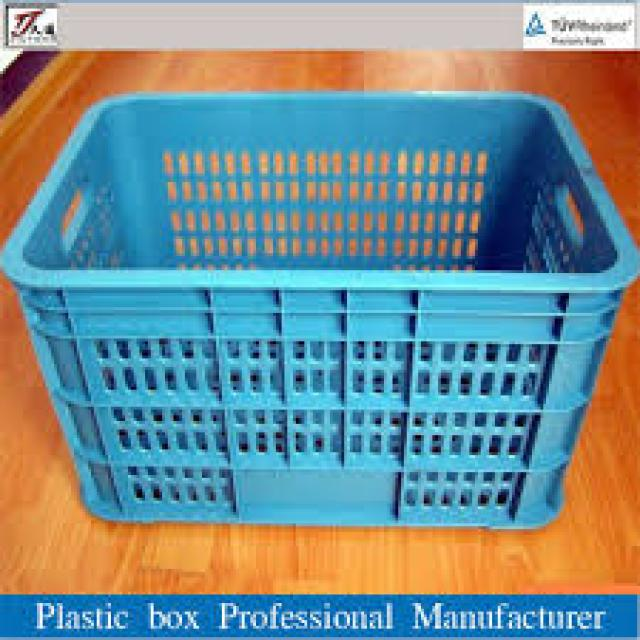basket: (3, 94, 640, 528)
